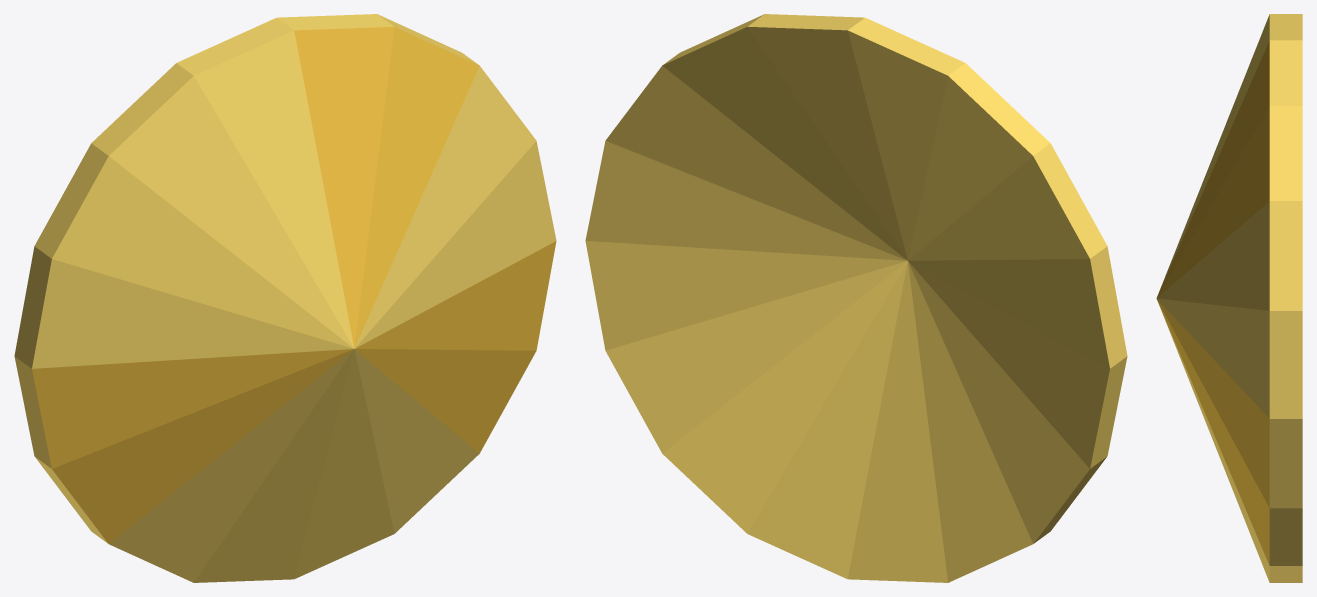
The picture shows the model from 3 angles, left to right: view 1: azimuth 30°, elevation 25°; view 2: azimuth 150°, elevation 25°; view 3: azimuth 270°, elevation 25°; orthographic projection. The views are drawn at different scales.
Visible parts, largest first — view 1: 凸折太阳圆面.001; view 2: 凸折太阳圆面.001; view 3: 凸折太阳圆面.001.
Part boxes in pixels (bbox=[...]): 凸折太阳圆面.001: bbox=[14, 14, 556, 582]; 凸折太阳圆面.001: bbox=[585, 14, 1127, 582]; 凸折太阳圆面.001: bbox=[1156, 14, 1302, 582].
Size of the model in its own units: 0.78 by 0.78 by 0.2.
